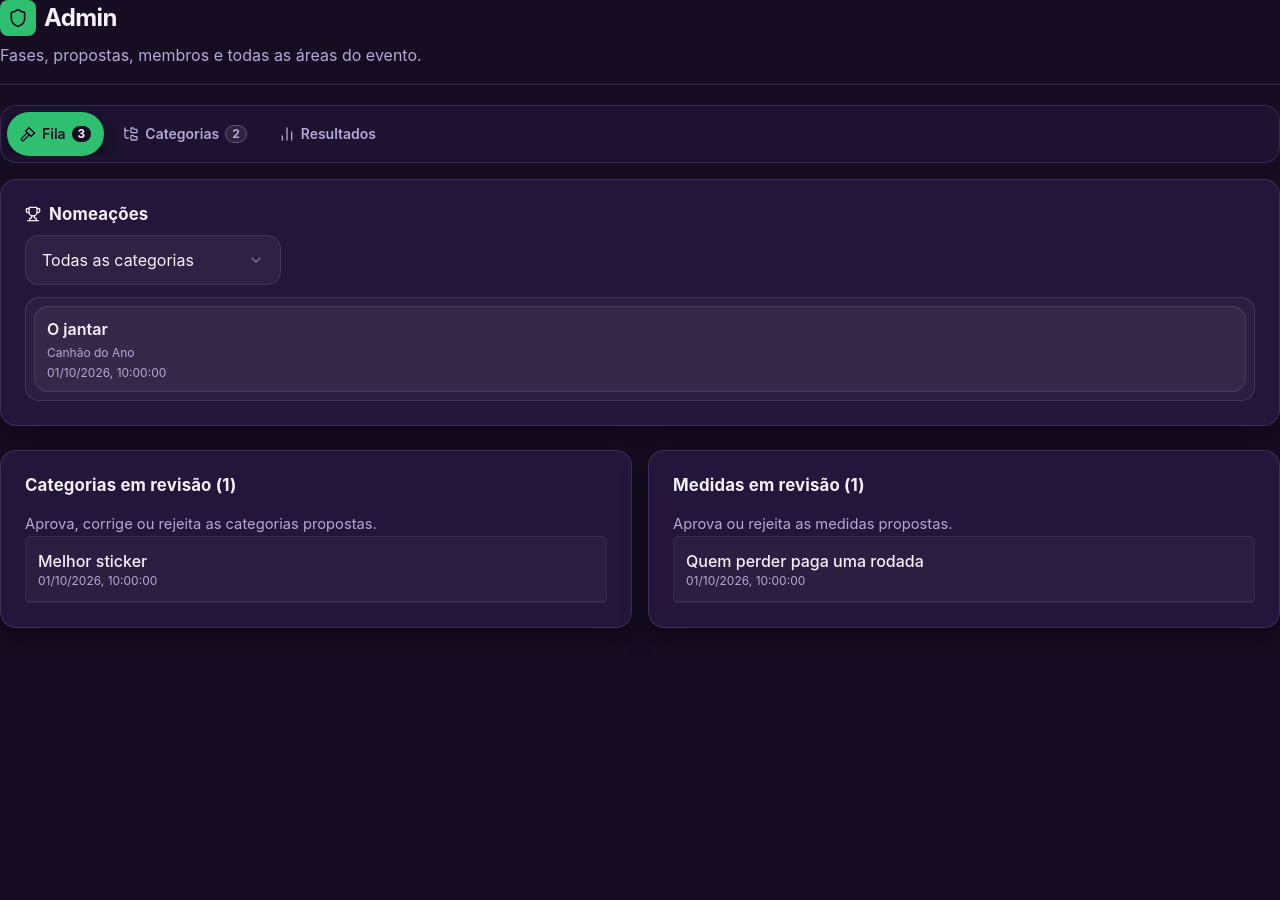
Test: CanhoesAdminModule — content queue › approves a nomination from its drawer
What coordinates should you click on to do the following:
click the button "O jantar Canhão do Ano 01/10/2026, 10:00:00"
I would click on:
 (77, 329)
Its box is top-left (34, 306), bottom-right (1246, 392).
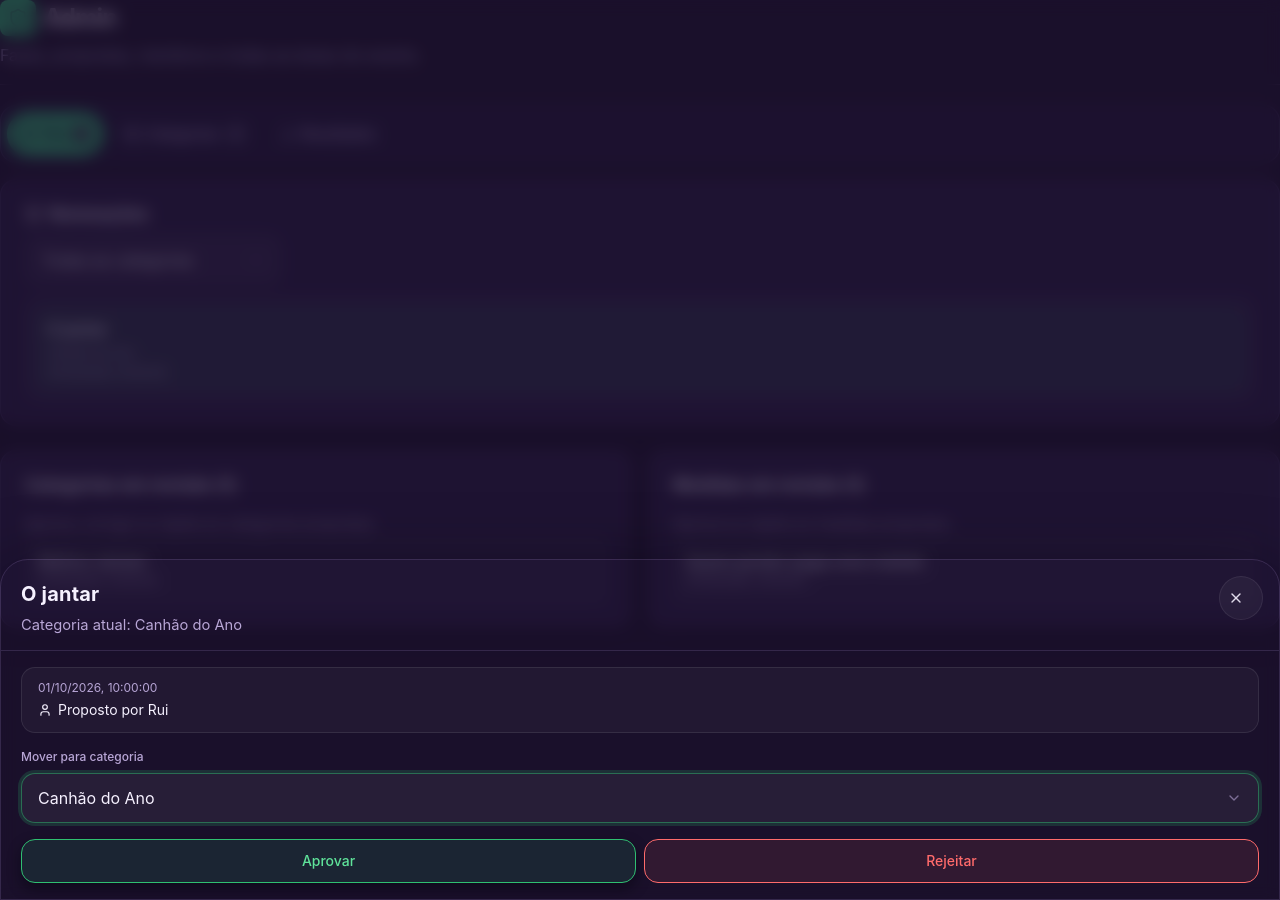
What coordinates should you click on to do the following:
click the button named "Aprovar nomeação \"O jantar\""
I would click on:
 (328, 861)
Its box is top-left (21, 839), bottom-right (636, 883).
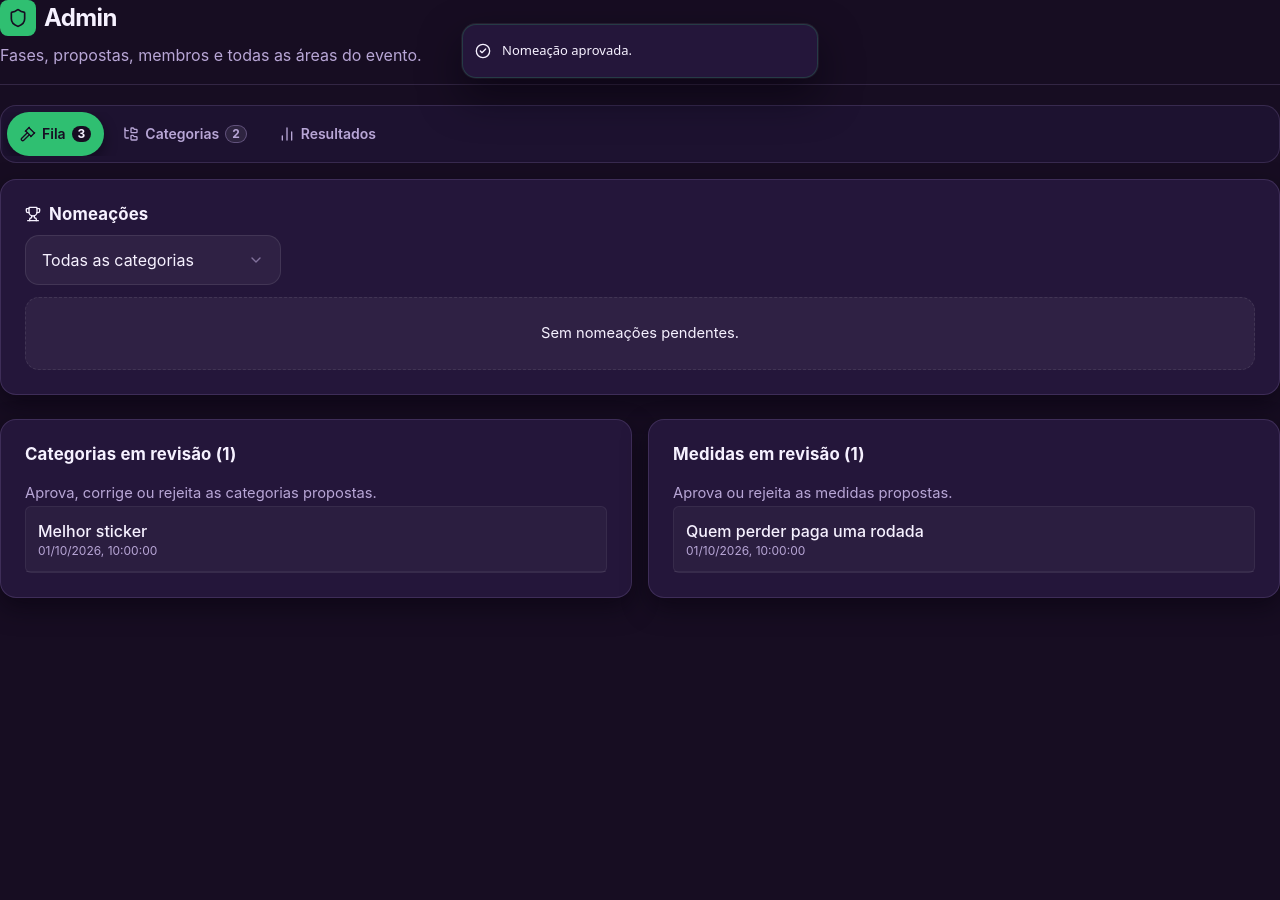
expect the text "Nomeação aprovada." is shown: met, box top-left (502, 41), bottom-right (632, 60)
